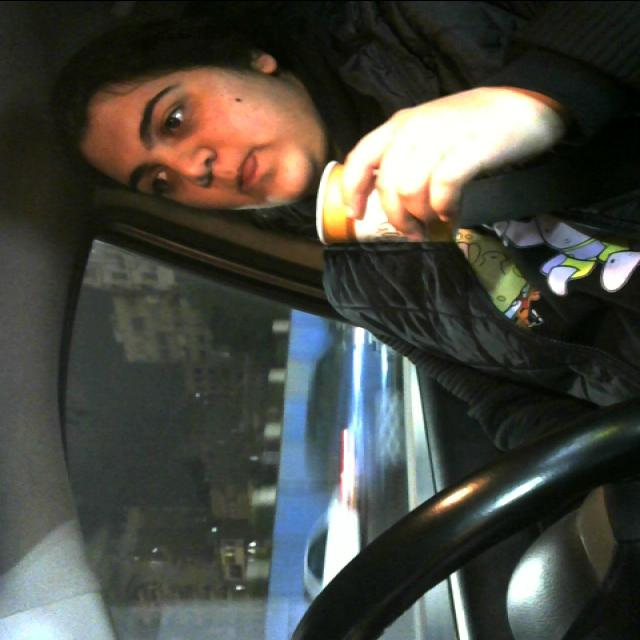drinking: (310, 154, 466, 252)
